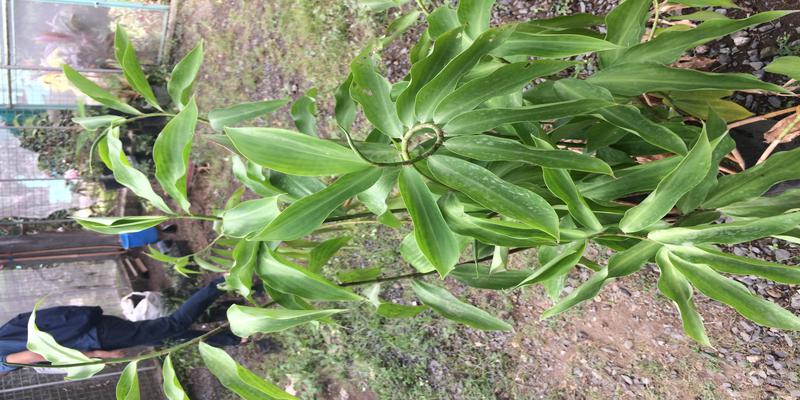Insulin: (62, 48, 771, 267)
